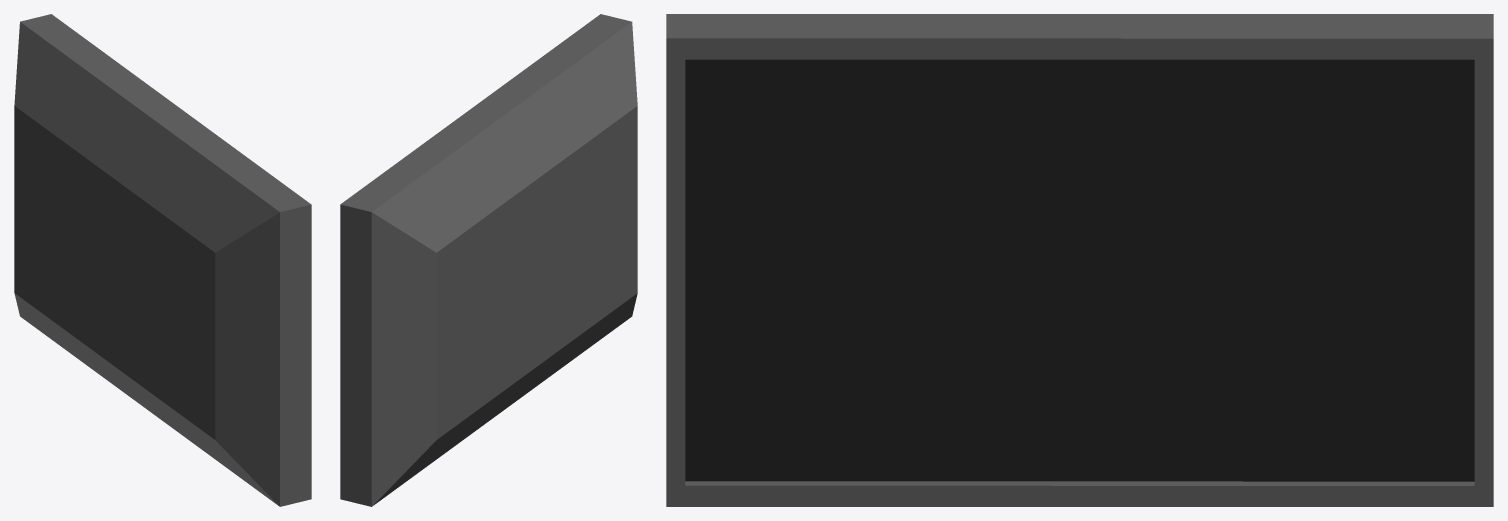
3 renders of one model, left to right at view 1: azimuth 30°, elevation 25°; view 2: azimuth 150°, elevation 25°; view 3: azimuth 270°, elevation 25°, orthographic. The views are drawn at different scales.
Visible parts, largest first — view 1: TV; view 2: TV; view 3: TV.
Boxes of the visible parts, box(x1,y1,x2,y2) form: TV: box(14, 14, 311, 506); TV: box(340, 14, 637, 506); TV: box(666, 14, 1493, 506).
Bounding box in the file's own units: 0.7871 × 3.32 × 5.31.
